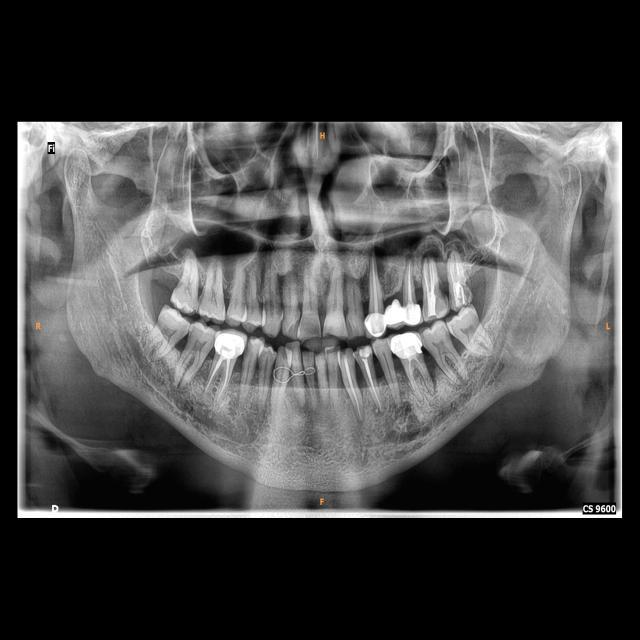dolgu: (422, 292, 444, 318), (354, 341, 374, 362), (452, 286, 468, 306)
kanal-tedavisi: (363, 250, 383, 311), (343, 363, 365, 418), (364, 360, 381, 414), (209, 358, 230, 398), (422, 259, 440, 296), (446, 253, 464, 288), (405, 258, 414, 305)
kaplama: (214, 328, 247, 359), (389, 332, 423, 357), (364, 312, 387, 336), (403, 302, 422, 326)
kopru: (375, 297, 412, 330)
